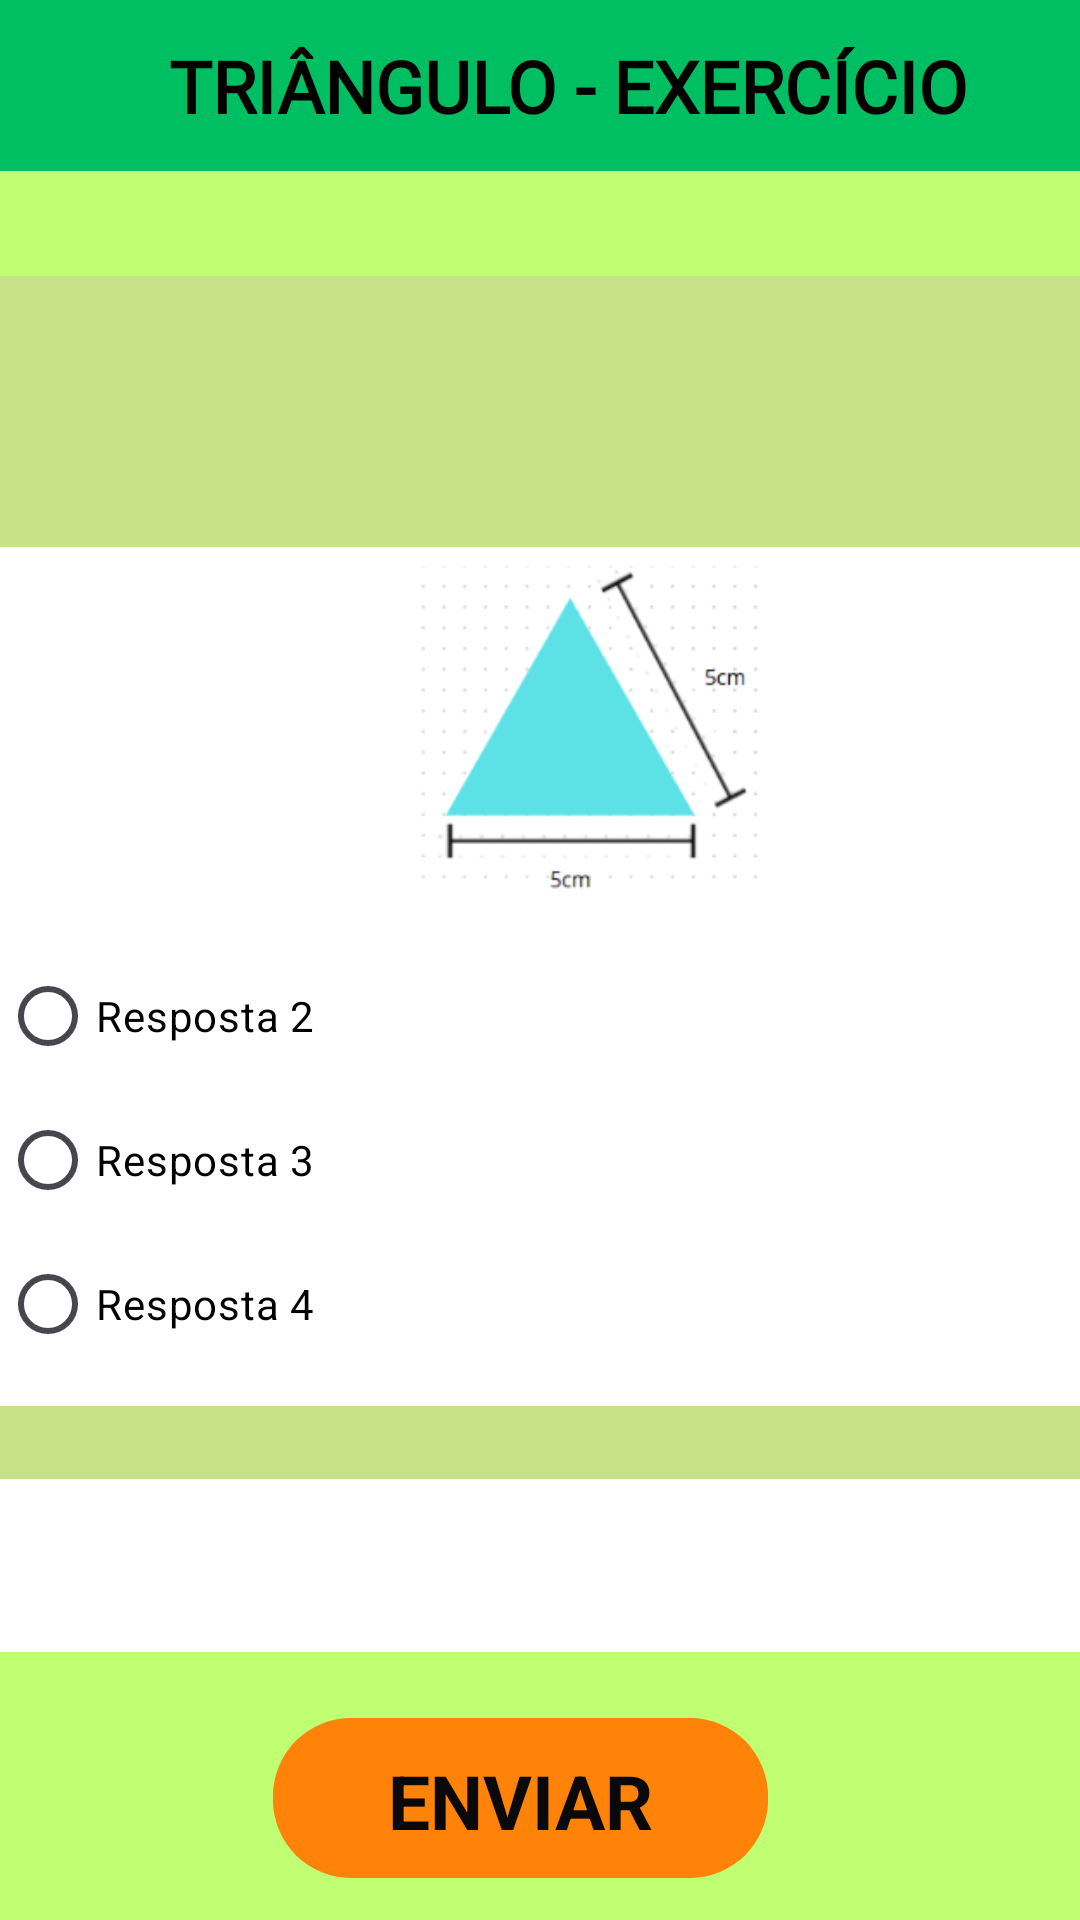

Icon click points for this 1080px x 1920px phone screenshot, format [x,y]:
tri: [589,730]
